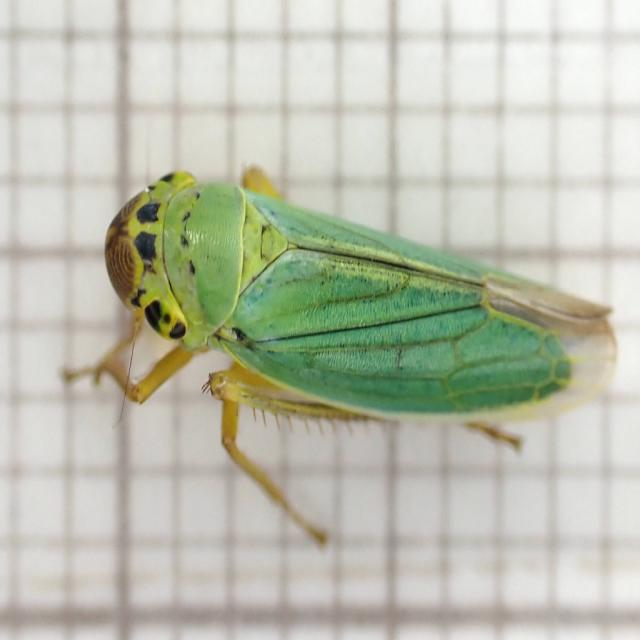wereng pada daun padi: (60, 162, 619, 548)
